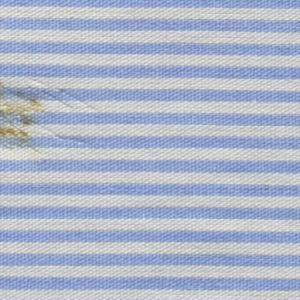Damage: (1, 76, 107, 156)
Oil Stain: (1, 77, 48, 158)
